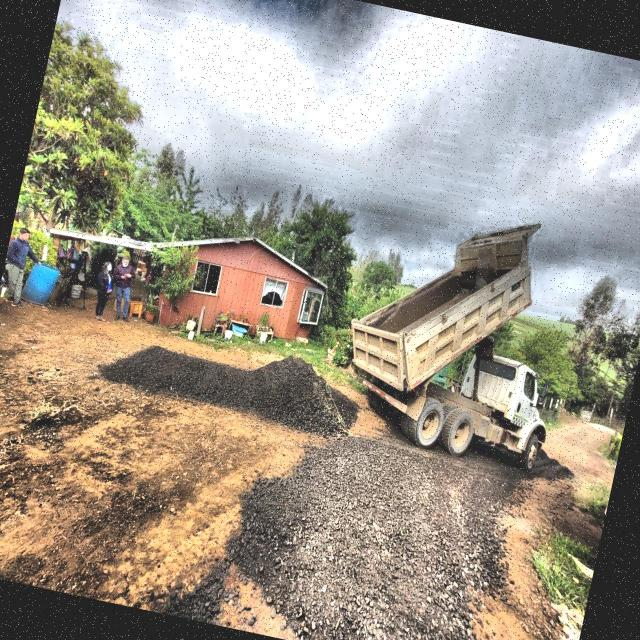dump_truck: (331, 190, 589, 476)
